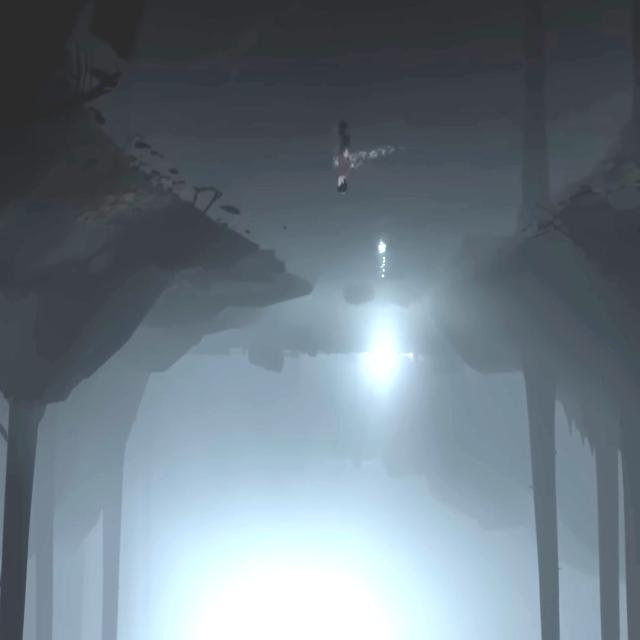boy: (333, 144, 349, 194)
